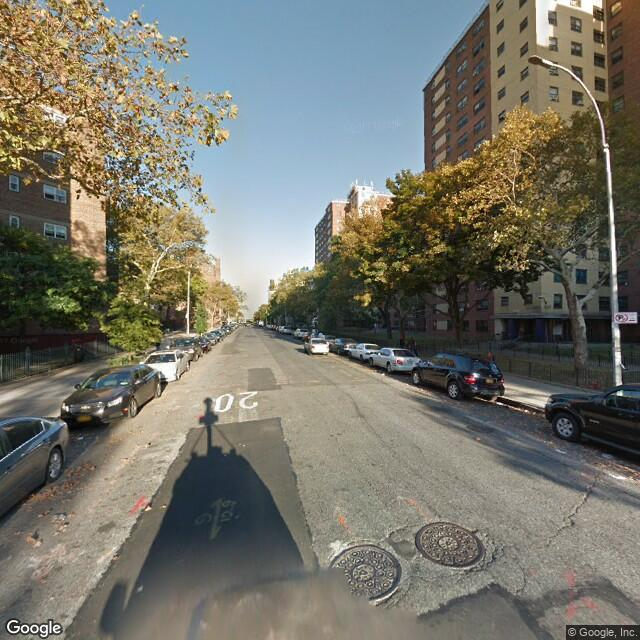litter: (77, 435, 85, 440), (382, 371, 387, 375)
